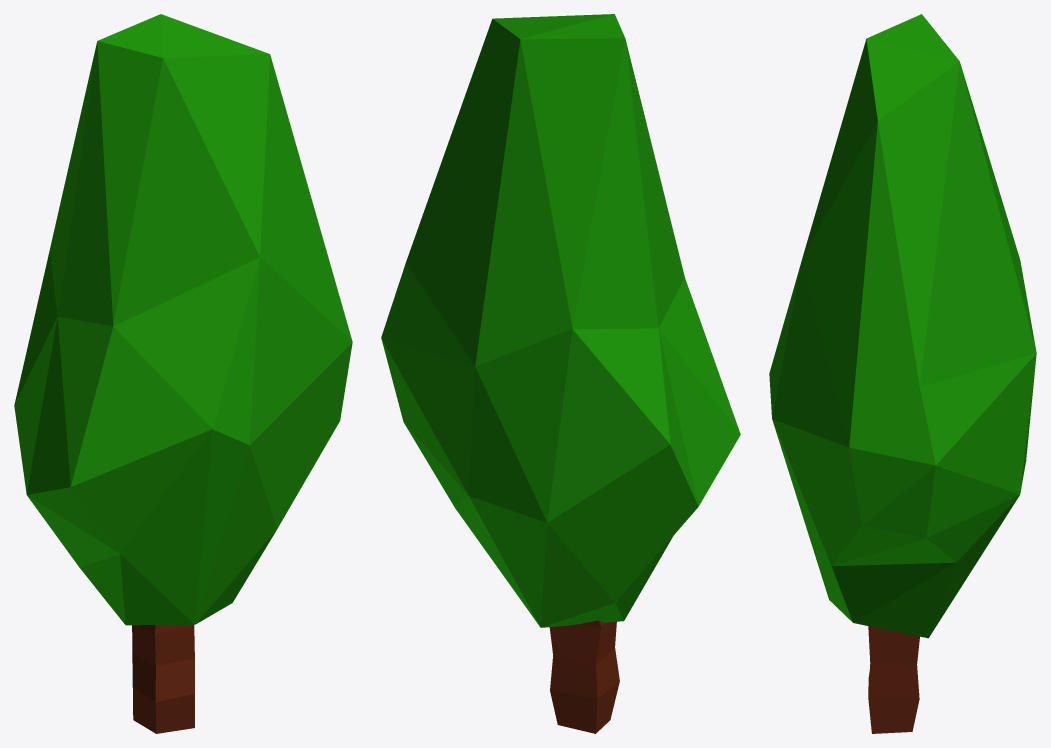
Rendered from tree3.fbx.
The picture shows the model from 3 angles, left to right: view 1: azimuth 30°, elevation 25°; view 2: azimuth 150°, elevation 25°; view 3: azimuth 270°, elevation 25°; orthographic projection. The views are drawn at different scales.
Visible parts, largest first — view 1: Tree 3; view 2: Tree 3; view 3: Tree 3.
Part boxes in pixels (x1,y1,x2,y2): Tree 3: (14, 14, 352, 733); Tree 3: (381, 14, 740, 733); Tree 3: (769, 14, 1036, 733).
Size of the model in its own units: 418 by 913 by 323.
